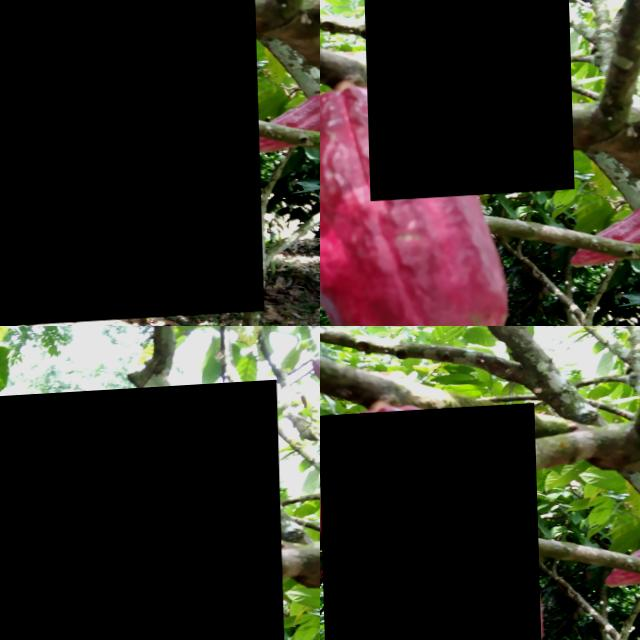Monilia: (0, 0, 259, 326)
Sana: (0, 385, 285, 640), (320, 408, 540, 640), (360, 0, 572, 204), (601, 529, 640, 592)
